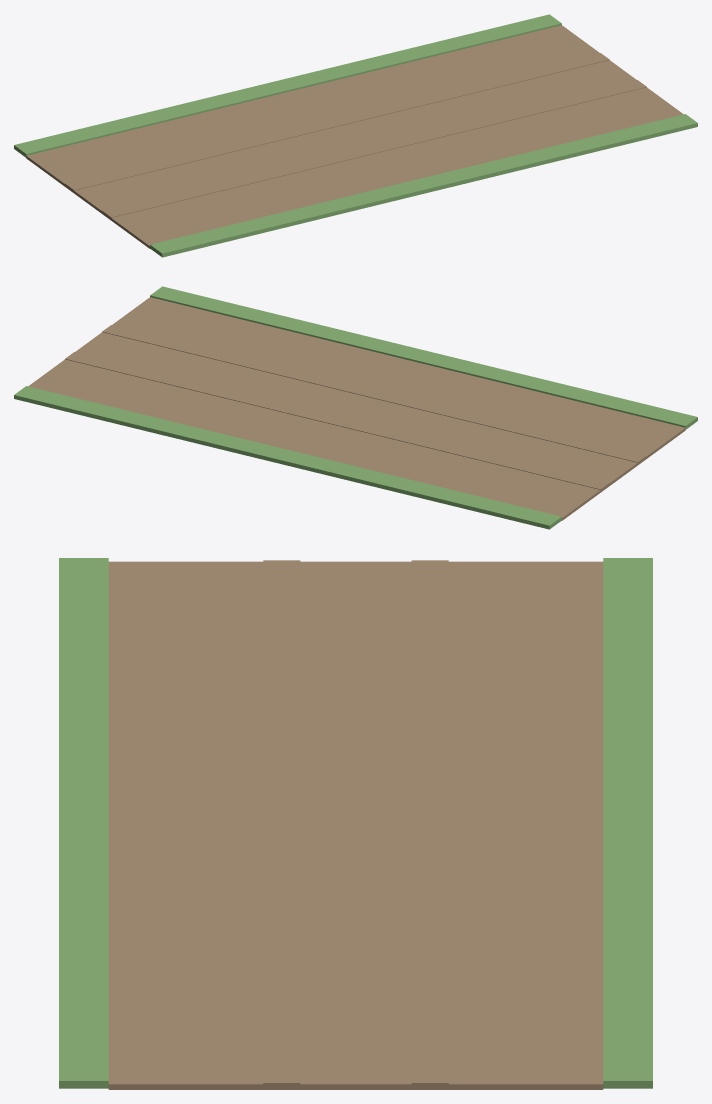
The model's file is dirt_road_segment.glb.
3 renders of one model, top to bottom at view 1: azimuth 30°, elevation 25°; view 2: azimuth 150°, elevation 25°; view 3: azimuth 270°, elevation 25°, orthographic. The views are drawn at different scales.
Visible parts, largest first — view 1: dirt, grass_l, grass_r, track_r, track_l; view 2: dirt, grass_r, grass_l, track_l, track_r; view 3: dirt, grass_l, grass_r, track_r, track_l.
Boxes of the visible parts, bbox=[...] form: dirt: bbox=[26, 25, 683, 248]; grass_l: bbox=[150, 114, 697, 257]; grass_r: bbox=[14, 14, 561, 157]; track_r: bbox=[102, 80, 646, 219]; track_l: bbox=[65, 53, 609, 192]; dirt: bbox=[28, 297, 685, 520]; grass_r: bbox=[14, 386, 561, 529]; grass_l: bbox=[150, 286, 697, 429]; track_l: bbox=[65, 352, 609, 489]; track_r: bbox=[102, 325, 646, 462]; dirt: bbox=[108, 561, 603, 1089]; grass_l: bbox=[59, 558, 108, 1088]; grass_r: bbox=[603, 558, 652, 1088]; track_r: bbox=[263, 560, 300, 1088]; track_l: bbox=[411, 560, 448, 1088].
Size of the model in its own units: 10 by 0.08 by 4.8.
